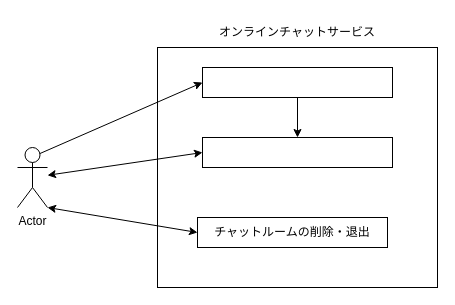
This 455x305 diagram has some shape labels left out. The shapes that lost their labels are listed below. From the top down, each one's centre as x and y in pixels, then its label:
At [297,82]: "チャットルームの作成or参加".
At [297,152]: "メッセージの送受信".
